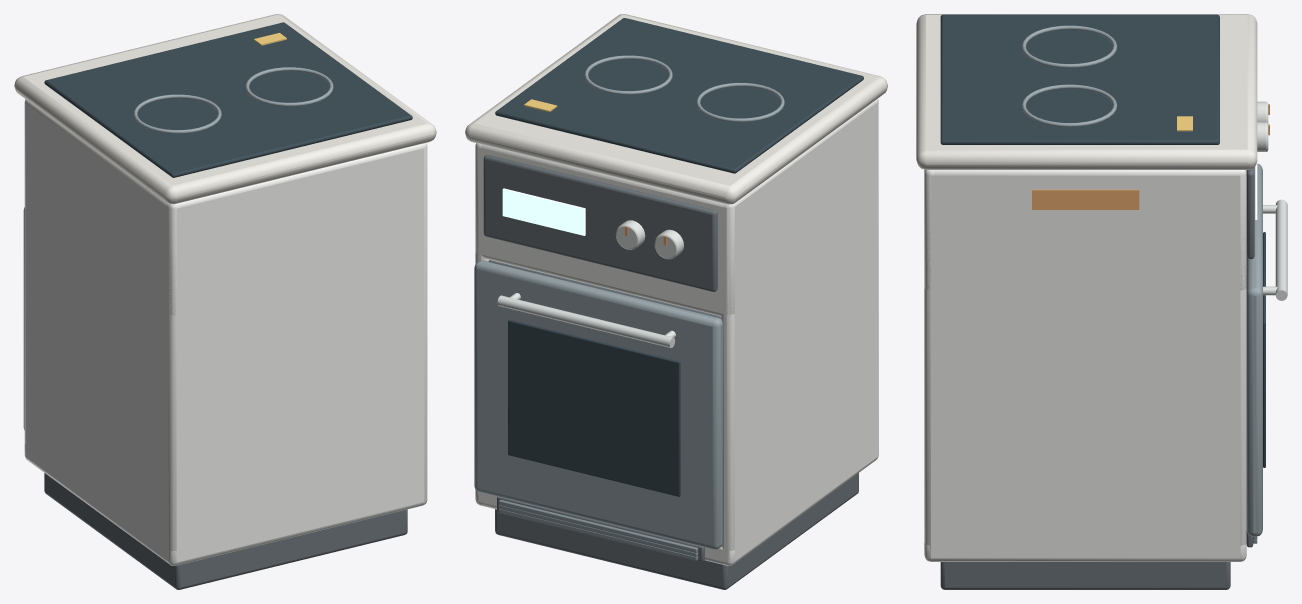
File: galley_oven.glb
The picture shows the model from 3 angles, left to right: view 1: azimuth 30°, elevation 25°; view 2: azimuth 150°, elevation 25°; view 3: azimuth 270°, elevation 25°; orthographic projection. The views are drawn at different scales.
Visible parts, largest first — view 1: body_white_painted, hob_dark_glass, cap_warm_shell, plinth_graphite, hob_rings_slate_panel; view 2: body_white_painted, oven_door_slate_panel, hob_dark_glass, oven_window_dark_glass, control_panel_graphite, cap_warm_shell, plinth_graphite, oven_vent_dark_alloy, display_screen_cyan, oven_handle_satin_steel, hob_rings_slate_panel, knobs_satin_steel (+1 smaller); view 3: body_white_painted, hob_dark_glass, cap_warm_shell, plinth_graphite, oven_door_slate_panel, side_label_orange, hob_rings_slate_panel, oven_handle_satin_steel, control_panel_graphite, oven_window_dark_glass, knobs_satin_steel.
Boxes of the visible parts, <box> form: body_white_painted: <box>24,99,427,565</box>; hob_dark_glass: <box>44,22,412,177</box>; cap_warm_shell: <box>14,14,436,204</box>; plinth_graphite: <box>44,473,407,589</box>; hob_rings_slate_panel: <box>133,67,333,133</box>; body_white_painted: <box>475,98,878,565</box>; oven_door_slate_panel: <box>474,260,722,549</box>; hob_dark_glass: <box>495,18,863,173</box>; oven_window_dark_glass: <box>508,320,680,496</box>; control_panel_graphite: <box>483,155,717,291</box>; cap_warm_shell: <box>465,14,887,204</box>; plinth_graphite: <box>495,473,858,589</box>; oven_vent_dark_alloy: <box>497,497,704,561</box>; display_screen_cyan: <box>502,188,585,235</box>; oven_handle_satin_steel: <box>497,293,675,347</box>; hob_rings_slate_panel: <box>584,55,784,121</box>; knobs_satin_steel: <box>615,220,683,259</box>; body_white_painted: <box>924,169,1246,561</box>; hob_dark_glass: <box>940,14,1219,144</box>; cap_warm_shell: <box>916,14,1257,169</box>; plinth_graphite: <box>940,562,1230,589</box>; oven_door_slate_panel: <box>1246,163,1262,536</box>; side_label_orange: <box>1032,189,1139,209</box>; hob_rings_slate_panel: <box>1021,25,1117,126</box>; oven_handle_satin_steel: <box>1263,199,1287,300</box>; control_panel_graphite: <box>1246,167,1254,259</box>; oven_window_dark_glass: <box>1263,232,1265,467</box>; knobs_satin_steel: <box>1257,101,1269,151</box>.
Bounding box in the file's own units: 0.63 × 0.936 × 0.691.
